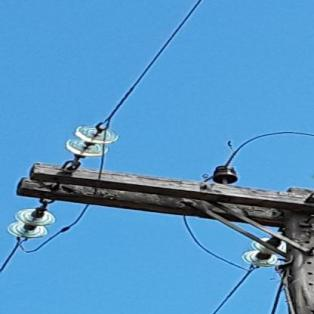Poste: (271, 167, 314, 314)
